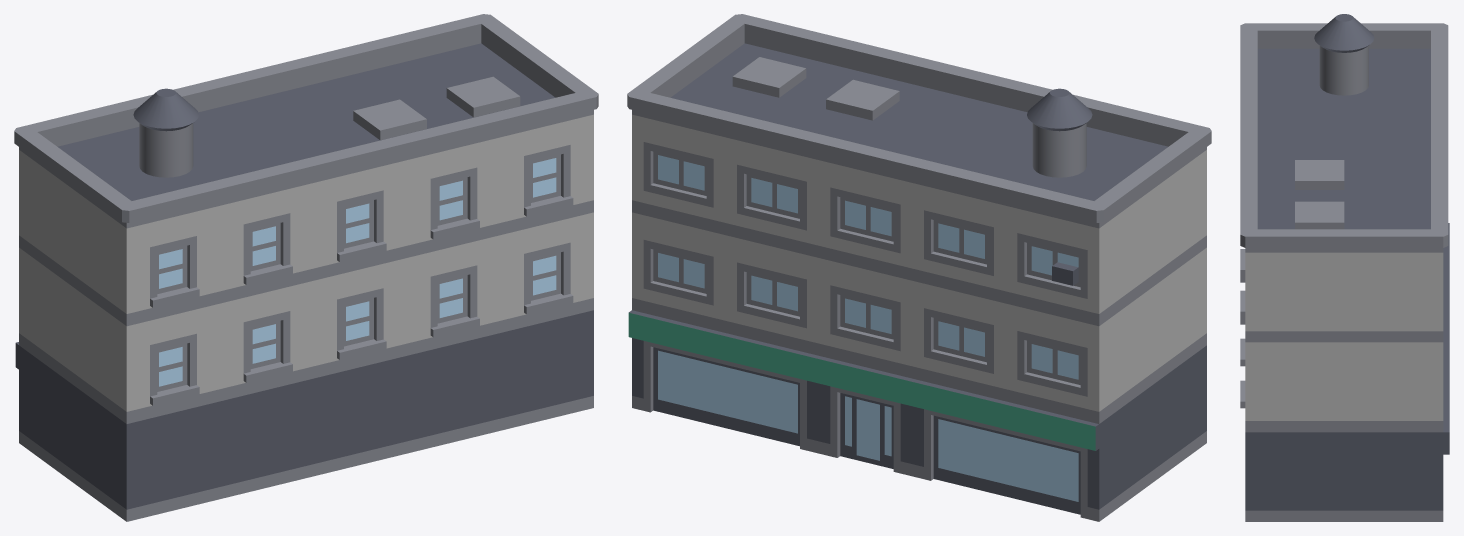
Rendered from Large Building4.glb.
3 renders of one model, left to right at view 1: azimuth 30°, elevation 25°; view 2: azimuth 150°, elevation 25°; view 3: azimuth 270°, elevation 25°, orthographic. The views are drawn at different scales.
Visible parts, largest first — view 1: large_buildingF; view 2: large_buildingF; view 3: large_buildingF.
Boxes of the visible parts, x1,y1,x2,y2 form: large_buildingF: [14, 14, 598, 521]; large_buildingF: [627, 14, 1211, 521]; large_buildingF: [1240, 14, 1449, 521].
Bounding box in the file's own units: 2.04 × 1.5 × 0.845.
